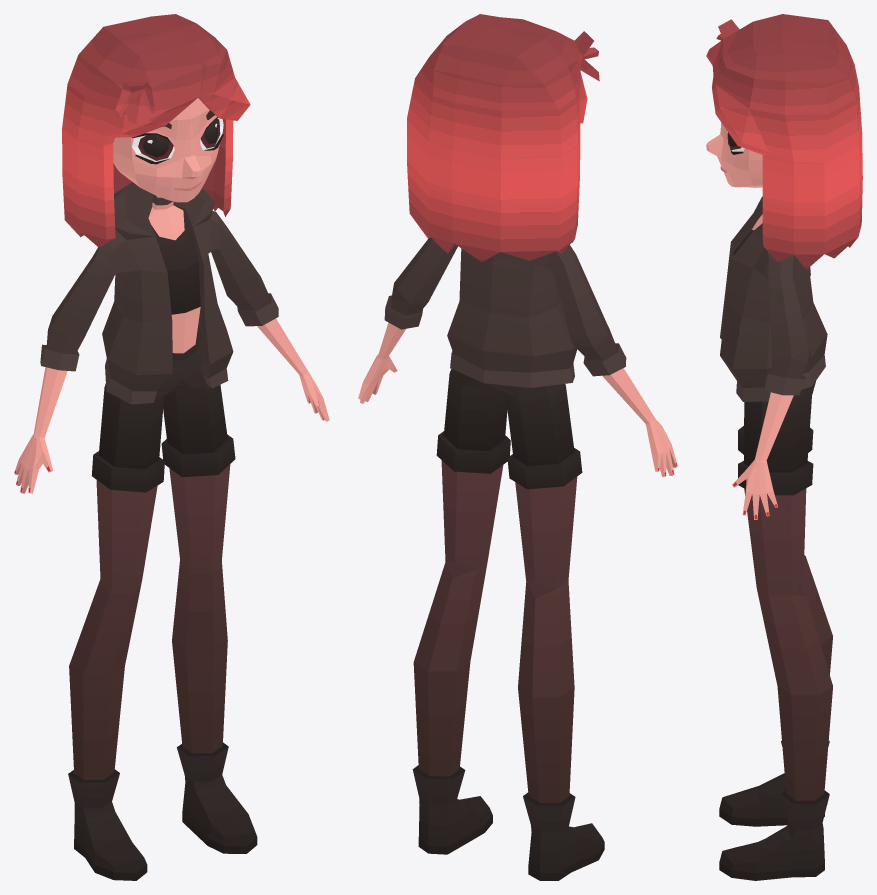
The model's file is stylized_low_poly_girl_character.glb.
3 views of the same model, side by side, from view 1: azimuth 30°, elevation 25°; view 2: azimuth 150°, elevation 25°; view 3: azimuth 270°, elevation 25° (orthographic).
Parts seen in each view (by area): view 1: body_0, hair_1, eyes_4; view 2: body_0, hair_1; view 3: body_0, hair_1.
Boxes of the visible parts, box(x1,y1,x2,y2) form: body_0: box(14, 98, 329, 880); hair_1: box(62, 14, 250, 247); eyes_4: box(131, 117, 223, 164); body_0: box(358, 237, 677, 880); hair_1: box(407, 14, 599, 261); body_0: box(706, 123, 832, 880); hair_1: box(706, 14, 862, 269).
Size of the model in its own units: 1 by 2.56 by 0.4482.
Materials: 1 (1 with a texture image).
